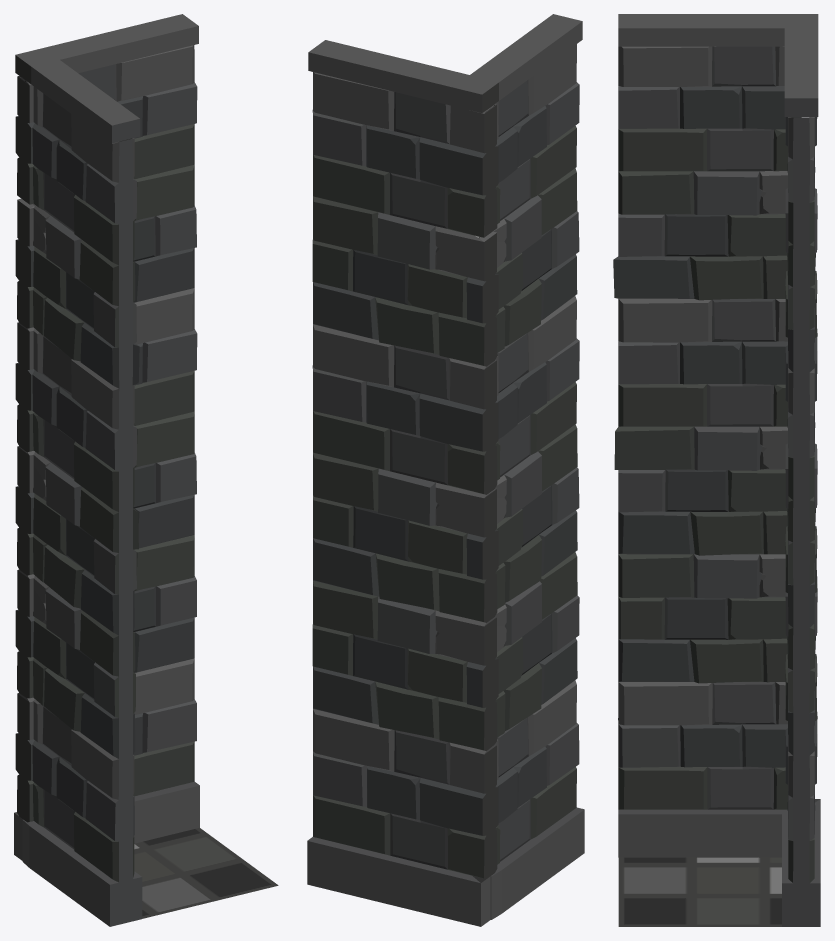
The model's file is Dungeon_Tilemap_14_90.fbx.
The picture shows the model from 3 angles, left to right: view 1: azimuth 30°, elevation 25°; view 2: azimuth 150°, elevation 25°; view 3: azimuth 270°, elevation 25°; orthographic projection. The views are drawn at different scales.
Visible parts, largest first — view 1: Dungeon_Tilemap_14_90; view 2: Dungeon_Tilemap_14_90; view 3: Dungeon_Tilemap_14_90.
Part boxes in pixels (x1,y1,x2,y2): Dungeon_Tilemap_14_90: (14, 14, 278, 926); Dungeon_Tilemap_14_90: (307, 14, 584, 926); Dungeon_Tilemap_14_90: (613, 14, 820, 926).
Bounding box in the file's own units: 55.36 × 250 × 56.76.
